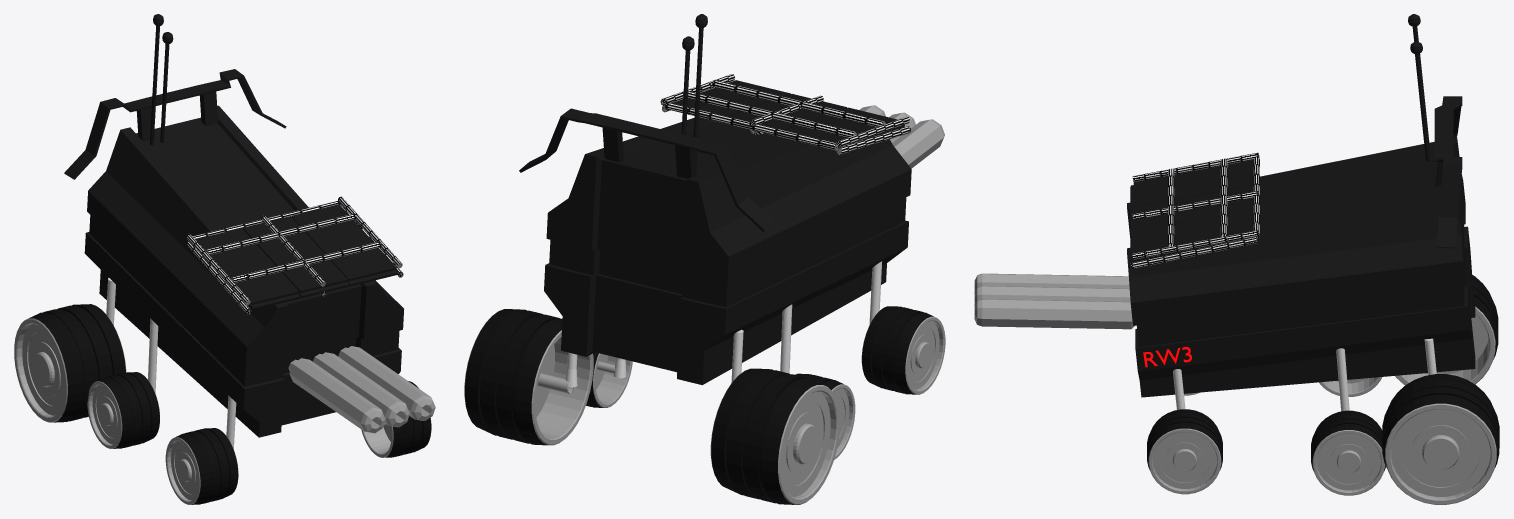
Rendered from rover_warrior_3.glb.
3 renders of one model, left to right at view 1: azimuth 30°, elevation 25°; view 2: azimuth 150°, elevation 25°; view 3: azimuth 270°, elevation 25°, orthographic. The views are drawn at different scales.
Visible parts, largest first — view 1: Rover_Warrior_3, Cylinder.172, Cube.107, Cube.050, Cube.048, Cube.049, Cube.044, Cylinder.164, Cylinder.160, Cube.060, Cylinder.173, Cube.061 (+18 smaller); view 2: Rover_Warrior_3, Cylinder.172, Cylinder.168, Cube.107, Cylinder.160, Cylinder.167, Cylinder.173, Cylinder.171, Cube.044, Cube.050, Cube.048, Cylinder.188 (+15 smaller); view 3: Rover_Warrior_3, Cylinder.169, Cube.060, Cylinder.168, Cube.107, Cube.048, Cylinder.157, Cylinder.153, Cube.050, Cylinder.167, Cube.049, Cube.061 (+17 smaller).
Boxes of the visible parts, bbox=[...] form: Rover_Warrior_3: bbox=[84, 105, 403, 437]; Cylinder.172: bbox=[29, 304, 125, 422]; Cube.107: bbox=[64, 69, 286, 179]; Cube.050: bbox=[291, 204, 396, 281]; Cube.048: bbox=[195, 228, 299, 304]; Cube.049: bbox=[243, 216, 347, 292]; Cube.044: bbox=[288, 358, 385, 433]; Cylinder.164: bbox=[97, 372, 159, 448]; Cylinder.160: bbox=[175, 428, 238, 504]; Cube.060: bbox=[338, 346, 435, 420]; Cylinder.173: bbox=[22, 324, 64, 415]; Cube.061: bbox=[313, 352, 409, 427]; Rover_Warrior_3: bbox=[544, 117, 911, 385]; Cylinder.172: bbox=[711, 368, 822, 504]; Cylinder.168: bbox=[465, 309, 562, 445]; Cube.107: bbox=[519, 108, 774, 231]; Cylinder.160: bbox=[862, 306, 933, 394]; Cylinder.167: bbox=[464, 317, 593, 445]; Cylinder.173: bbox=[782, 391, 830, 496]; Cylinder.171: bbox=[710, 376, 839, 504]; Cube.044: bbox=[892, 119, 944, 168]; Cube.050: bbox=[668, 80, 790, 118]; Cube.048: bbox=[780, 107, 897, 145]; Cylinder.188: bbox=[712, 80, 885, 126]; Rover_Warrior_3: bbox=[1127, 137, 1475, 397]; Cylinder.169: bbox=[1391, 409, 1490, 496]; Cube.060: bbox=[974, 299, 1134, 329]; Cylinder.168: bbox=[1382, 374, 1499, 468]; Cube.107: bbox=[1434, 96, 1462, 248]; Cube.048: bbox=[1133, 159, 1259, 206]; Cylinder.157: bbox=[1316, 433, 1381, 490]; Cylinder.153: bbox=[1152, 432, 1217, 488]; Cube.050: bbox=[1133, 209, 1259, 253]; Cylinder.167: bbox=[1385, 403, 1496, 504]; Cube.049: bbox=[1133, 184, 1259, 231]; Cube.061: bbox=[974, 286, 1130, 305].
Size of the model in its own units: 2.68 by 3.65 by 4.26.
Materials: 5 (1 with a texture image).
